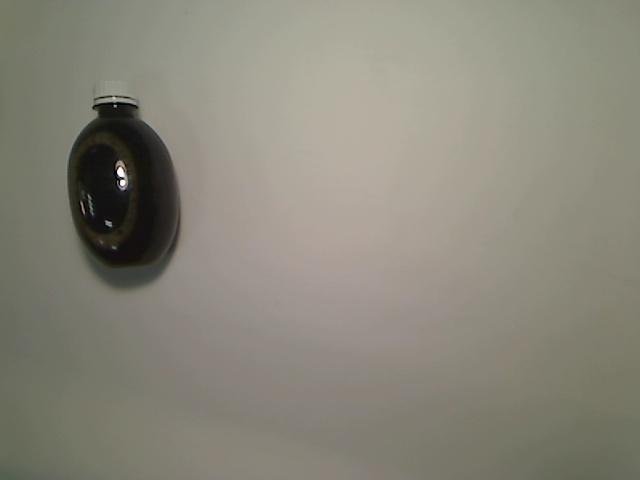plast_bottle: (64, 77, 184, 271)
